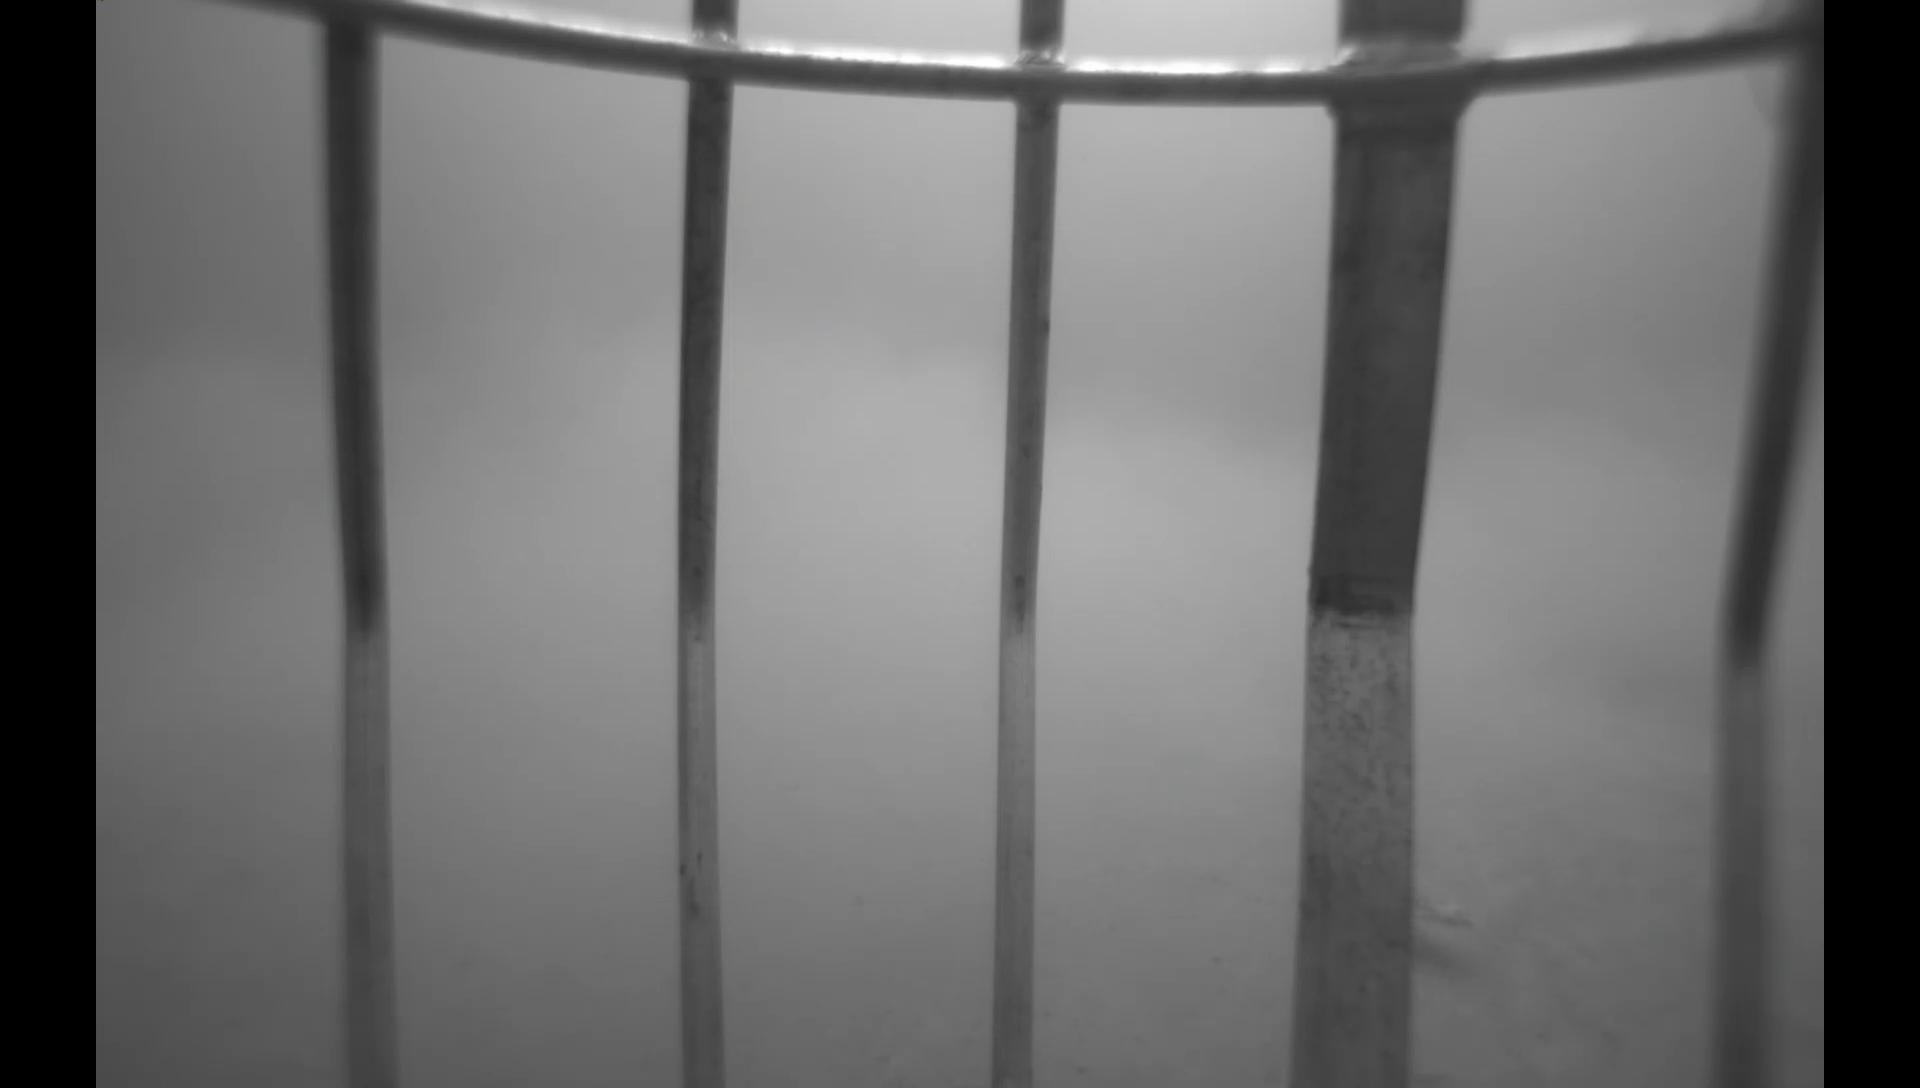OPHICHTHUSPUNCTICEPS-143150402: (1412, 885, 1484, 939)
